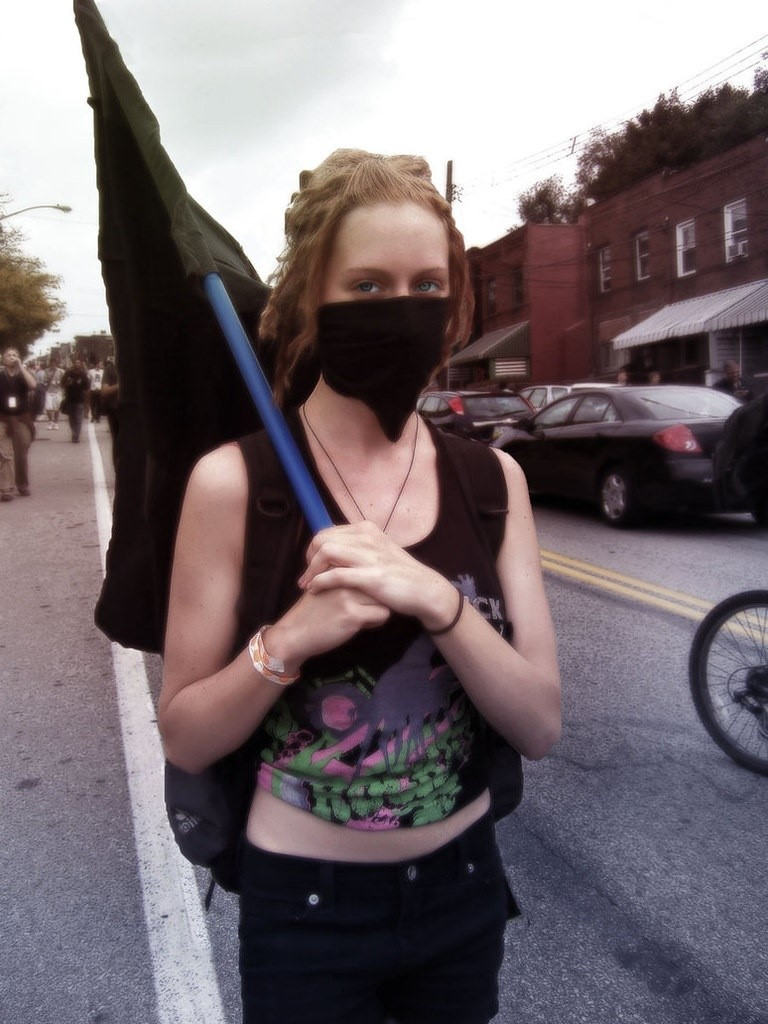face_with_mask: (295, 170, 461, 418)
